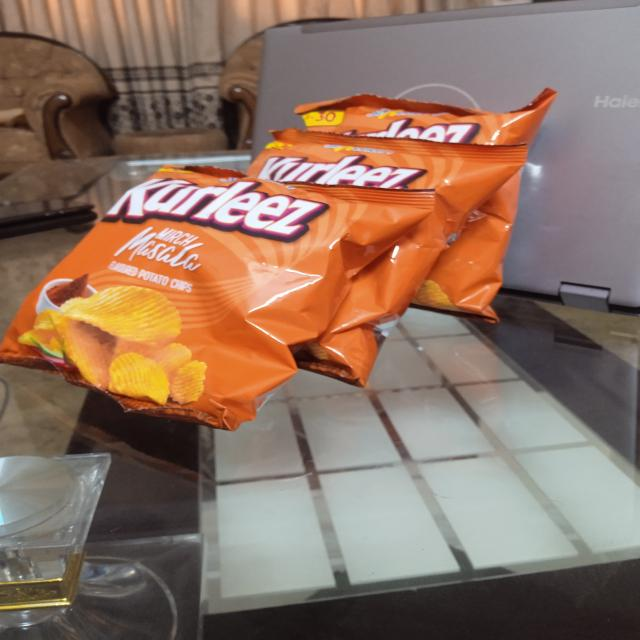Plastic: (18, 171, 356, 429), (290, 92, 556, 150), (252, 139, 508, 196)
